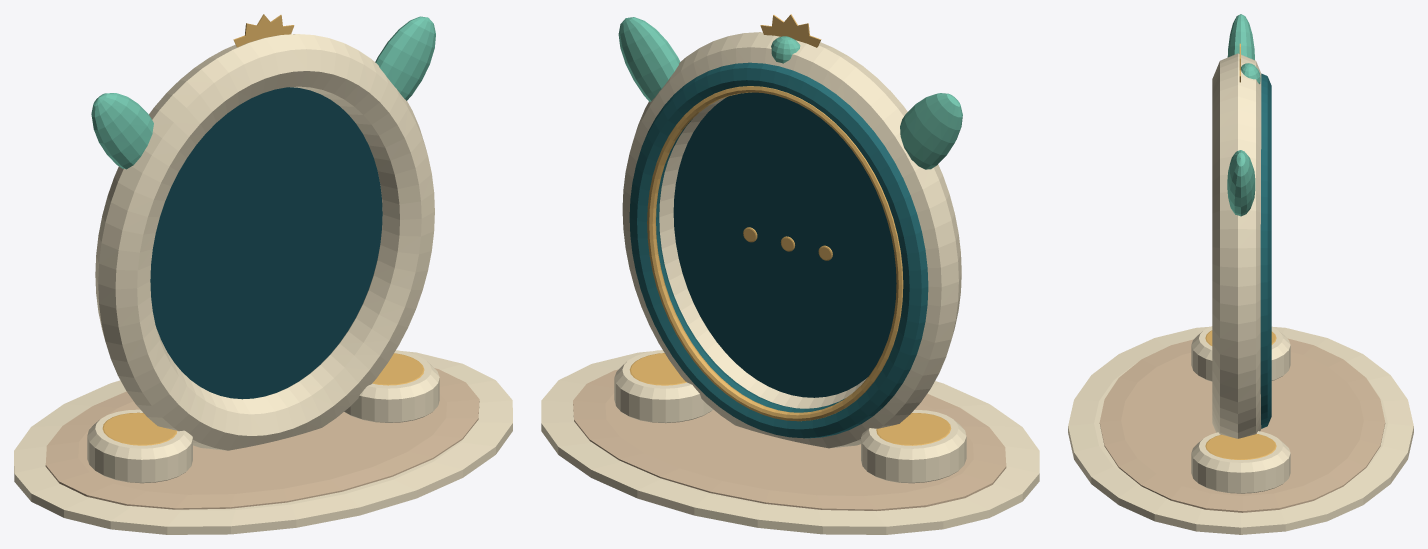
File: The_sleeping_garden_portal.obj
3 renders of one model, left to right at view 1: azimuth 30°, elevation 25°; view 2: azimuth 150°, elevation 25°; view 3: azimuth 270°, elevation 25°, orthographic. The views are drawn at different scales.
Parts seen in each view (by area): view 1: Quiet_glass, Porcelain_arch, Inset_terrace, Stone_terrace, Carved_foot, Leaf_fin, Gold_foot_cuff, Sun_crest; view 2: Quiet_glass, Porcelain_arch, Inset_terrace, Teal_inner_bevel, Stone_terrace, Carved_foot, Golden_rim, Leaf_fin, Gold_foot_cuff, Sun_crest, Jade_heart; view 3: Inset_terrace, Stone_terrace, Porcelain_arch, Carved_foot, Teal_inner_bevel, Leaf_fin, Gold_foot_cuff.
Part boxes in pixels (left/top/right/bottom): Quiet_glass: left=150, top=87, right=382, bottom=399; Porcelain_arch: left=95, top=34, right=434, bottom=450; Inset_terrace: left=45, top=368, right=479, bottom=509; Stone_terrace: left=14, top=351, right=512, bottom=534; Carved_foot: left=87, top=350, right=439, bottom=483; Leaf_fin: left=91, top=16, right=435, bottom=169; Gold_foot_cuff: left=102, top=353, right=424, bottom=445; Sun_crest: left=233, top=14, right=294, bottom=47; Quiet_glass: left=673, top=92, right=896, bottom=397; Porcelain_arch: left=622, top=32, right=961, bottom=448; Inset_terrace: left=573, top=369, right=1006, bottom=510; Teal_inner_bevel: left=629, top=62, right=928, bottom=438; Stone_terrace: left=541, top=351, right=1039, bottom=534; Carved_foot: left=614, top=350, right=966, bottom=483; Golden_rim: left=647, top=86, right=903, bottom=421; Leaf_fin: left=618, top=17, right=962, bottom=169; Gold_foot_cuff: left=629, top=353, right=951, bottom=445; Sun_crest: left=760, top=14, right=821, bottom=47; Jade_heart: left=771, top=36, right=800, bottom=63; Inset_terrace: left=1099, top=338, right=1385, bottom=512; Stone_terrace: left=1068, top=326, right=1413, bottom=534; Porcelain_arch: left=1212, top=53, right=1261, bottom=438; Carved_foot: left=1191, top=326, right=1290, bottom=493; Teal_inner_bevel: left=1260, top=73, right=1271, bottom=428; Leaf_fin: left=1227, top=14, right=1255, bottom=216; Gold_foot_cuff: left=1205, top=330, right=1276, bottom=459.
Bounding box in the file's own units: 6.4 × 5.71 × 4.6.
